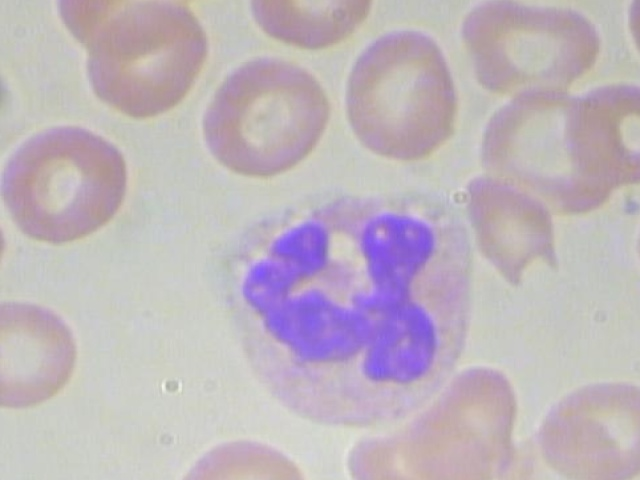Platelets: (316, 479, 356, 480)
RBC: (180, 49, 342, 183), (336, 22, 468, 164), (0, 120, 133, 245), (457, 0, 611, 107), (83, 0, 214, 123), (534, 372, 640, 480), (0, 291, 87, 416), (168, 430, 326, 480), (615, 0, 640, 85), (0, 191, 16, 317), (633, 176, 640, 305)
WBC: (207, 186, 488, 435)
